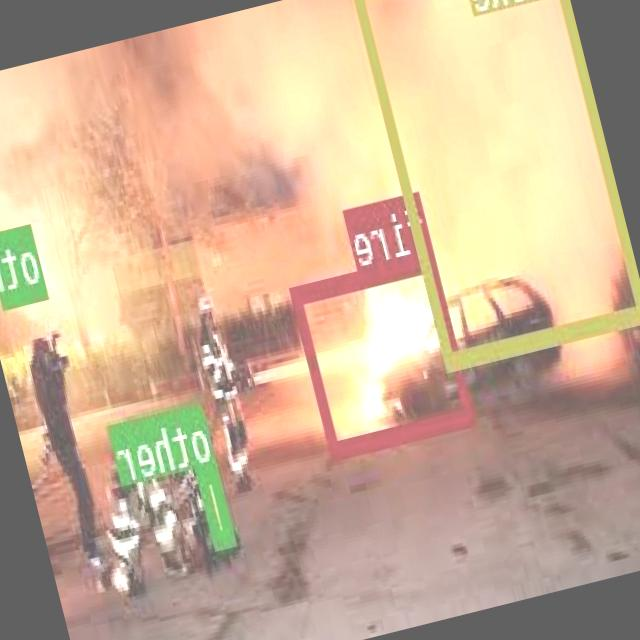fire: (292, 249, 477, 456)
smoke: (351, 0, 640, 365)
